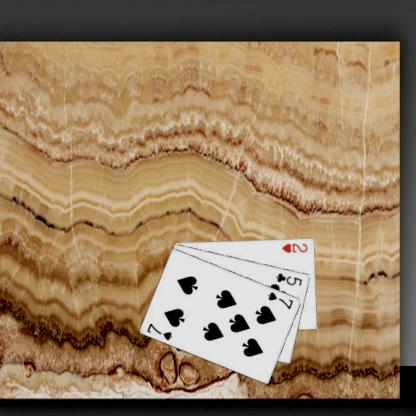2H: (279, 240, 309, 254)
5C: (274, 270, 304, 287)
7S: (144, 320, 173, 341), (265, 290, 295, 310)
